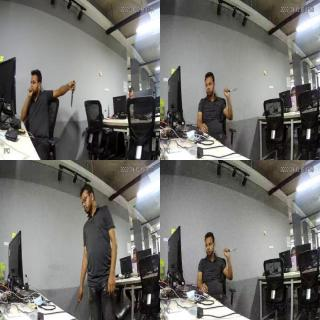knife: (72, 298, 82, 314), (225, 245, 239, 255), (224, 86, 238, 95), (70, 89, 76, 108)
